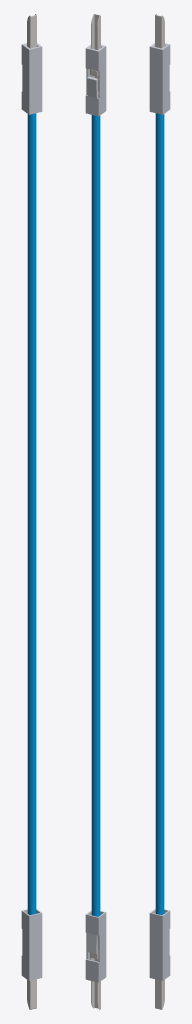
Rendered from Dupont+Jumper+Wire+M-M.glb.
3 views of the same model, side by side, from view 1: azimuth 30°, elevation 25°; view 2: azimuth 150°, elevation 25°; view 3: azimuth 330°, elevation 25° (orthographic).
Visible parts, largest first — view 1: Node3, Node2, Node1; view 2: Node3, Node2, Node1; view 3: Node3, Node2, Node1.
Boxes of the visible parts, box(x1,y1,x2,y2) form: Node3: box(27, 113, 36, 914); Node2: box(21, 43, 42, 980); Node1: box(26, 14, 37, 1009); Node3: box(91, 115, 100, 916); Node2: box(85, 44, 106, 982); Node1: box(90, 14, 101, 1009); Node3: box(155, 113, 164, 914); Node2: box(149, 43, 170, 980); Node1: box(154, 14, 165, 1009).
Size of the model in its own units: 2.54 by 184 by 2.79.
